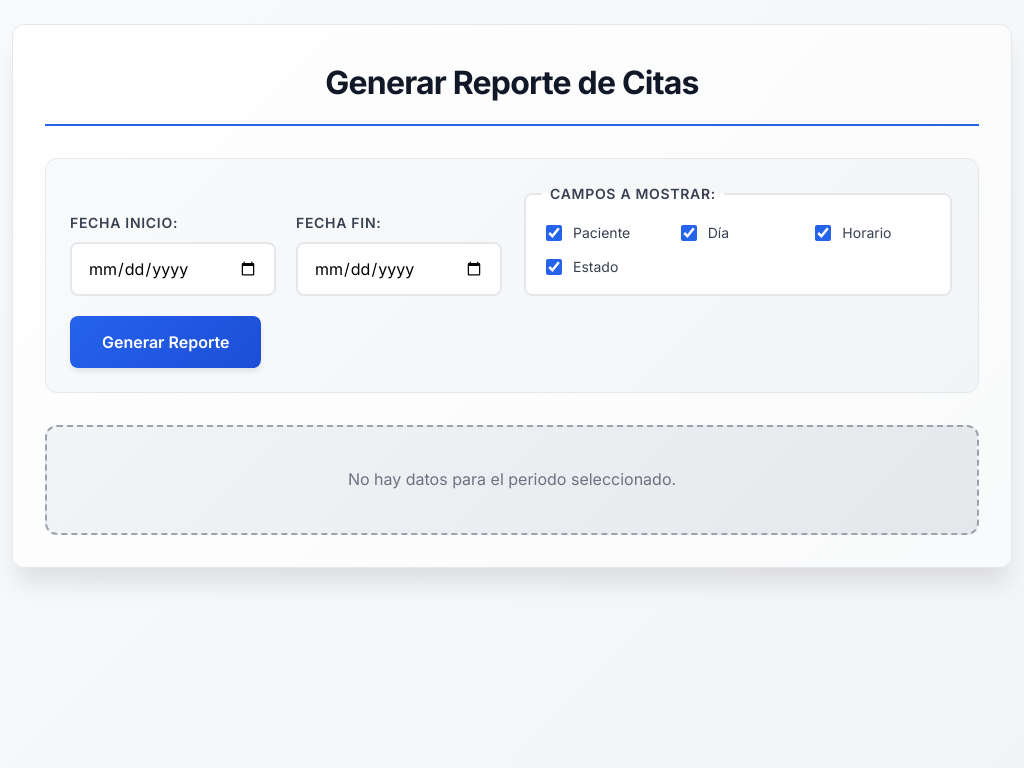
Test: ReporteCitas › muestra el gráfico de totales si hay datos
In the date field labelled "Fecha inicio:": (173, 269) [70,242,276,296], type "2025-07-01"
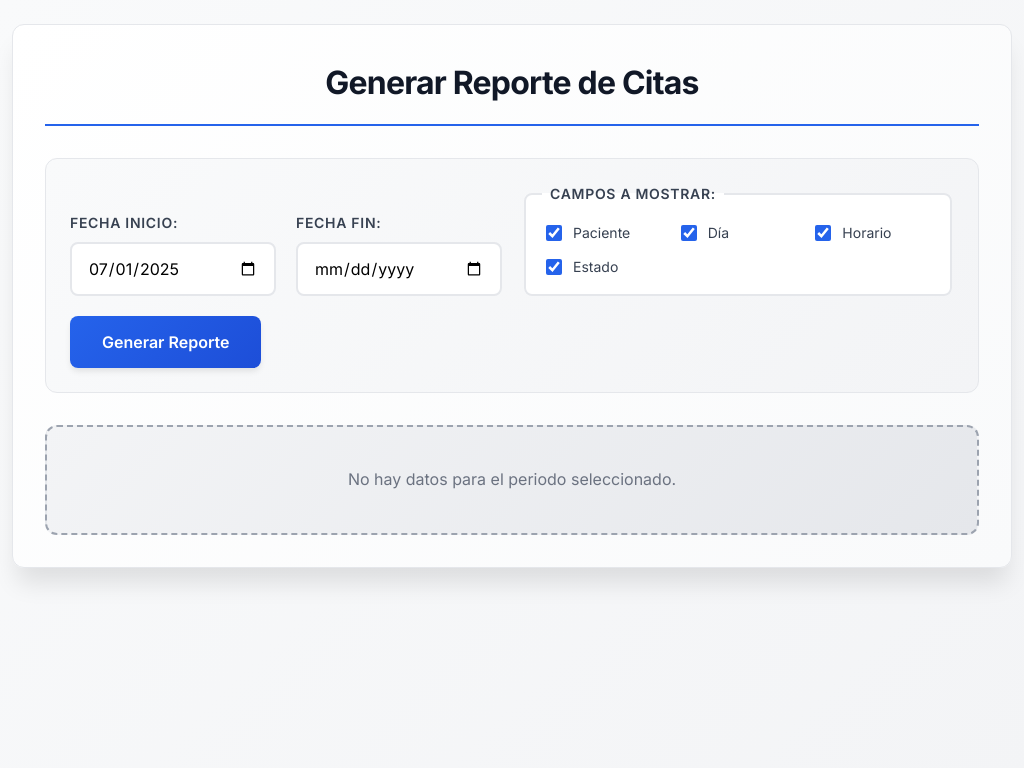
In the date field labelled "Fecha fin:": (399, 269) [296,242,502,296], type "2025-07-31"
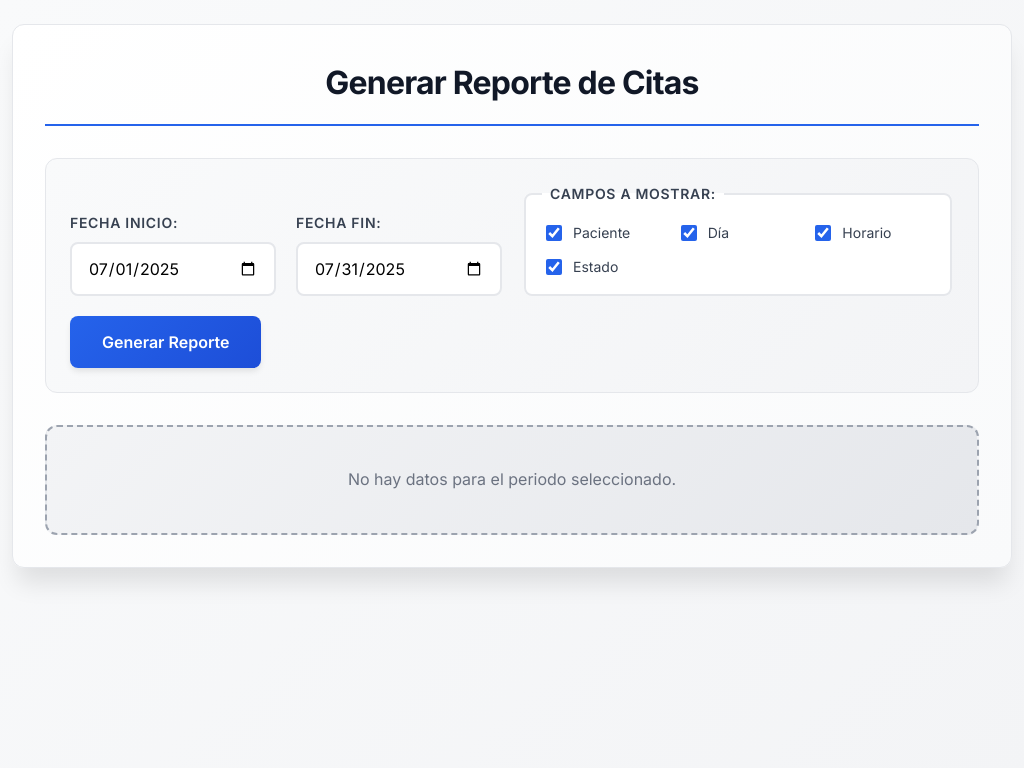
Click the button "Generar Reporte": click(166, 342) [70,316,262,368]
(page scrolled)
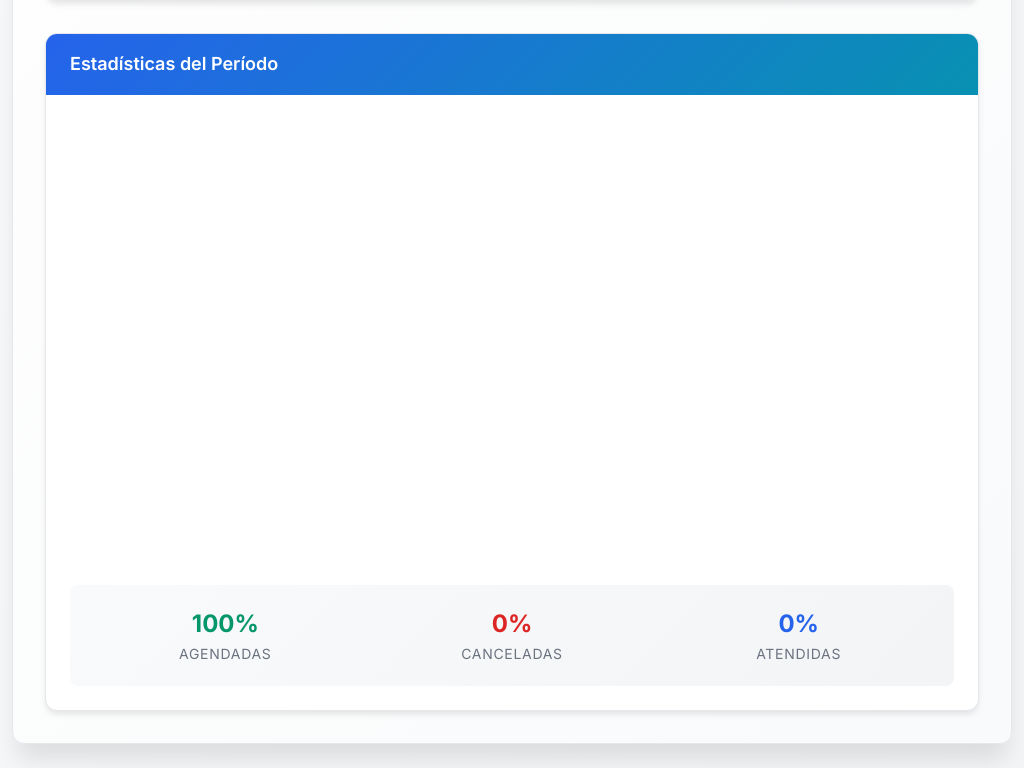
Result: the text "Agendadas" is shown at [179,645,272,662]
Result: the text "Canceladas" is shown at [461,645,563,662]
Result: the text "Atendidas" is shown at [756,645,841,662]
